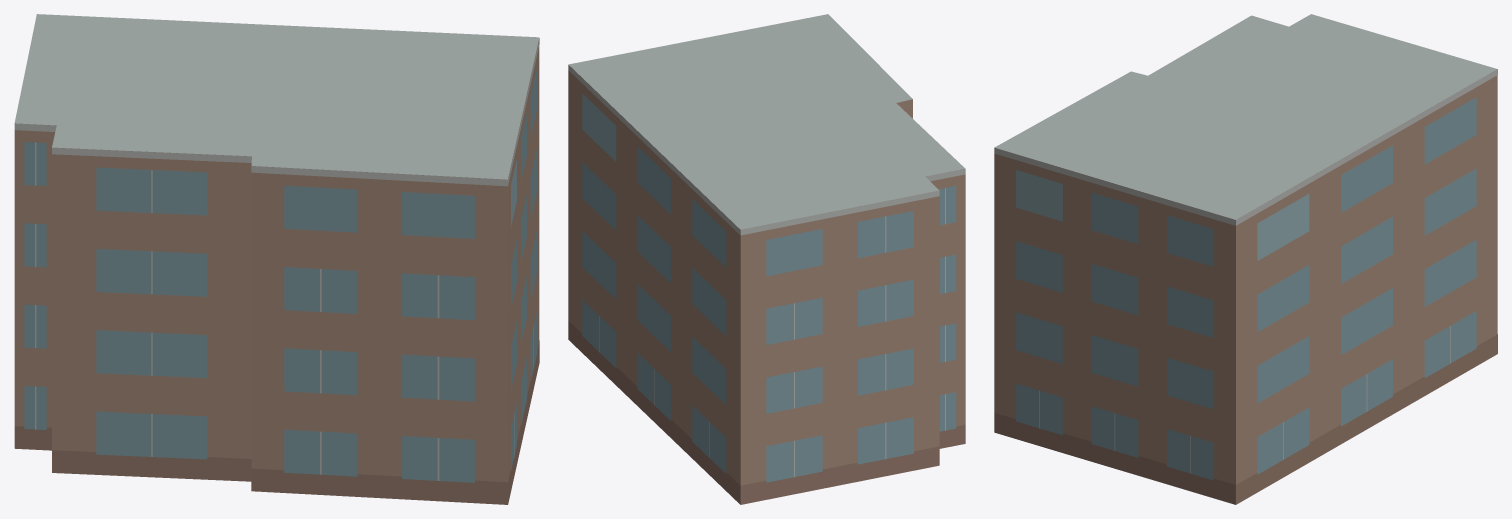
File: survey-upis-32890398.glb
3 views of the same model, side by side, from view 1: azimuth 30°, elevation 25°; view 2: azimuth 150°, elevation 25°; view 3: azimuth 270°, elevation 25° (orthographic). The views are drawn at different scales.
Visible parts, largest first — view 1: survey-upis-32890398.tmp; view 2: survey-upis-32890398.tmp; view 3: survey-upis-32890398.tmp.
Boxes of the visible parts, x1,y1,x2,y2 form: survey-upis-32890398.tmp: (14, 14, 539, 504); survey-upis-32890398.tmp: (568, 14, 965, 504); survey-upis-32890398.tmp: (994, 14, 1497, 504).
Size of the model in its own units: 18.31 by 11.8 by 18.91.
